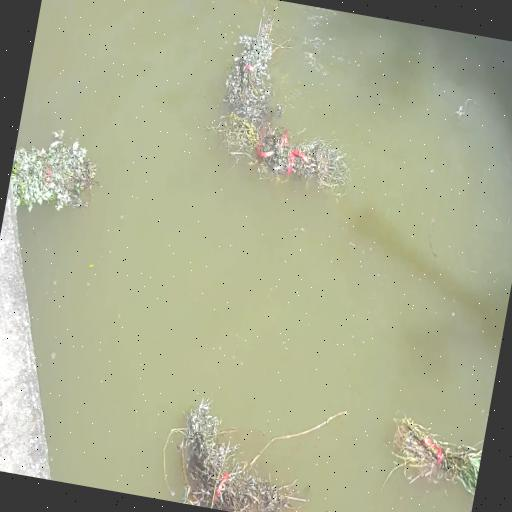twig: (200, 14, 366, 199), (161, 386, 321, 512), (368, 405, 486, 502), (4, 117, 109, 225)
